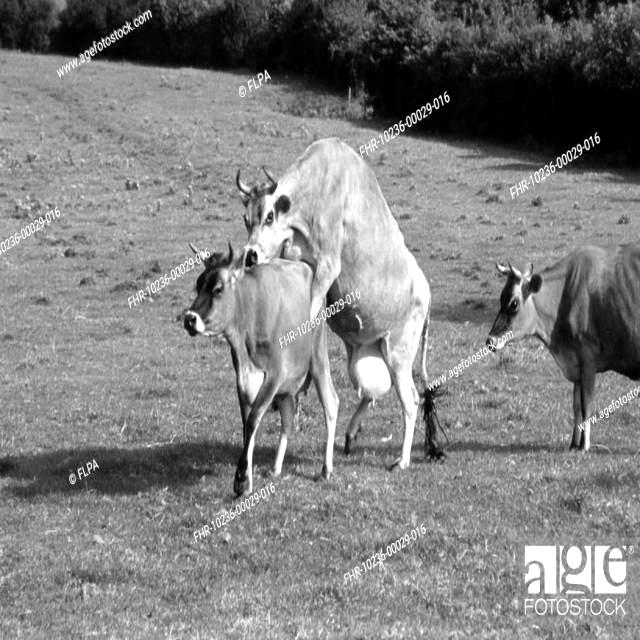COW: (236, 139, 445, 468), (184, 250, 339, 495), (488, 245, 640, 451)
